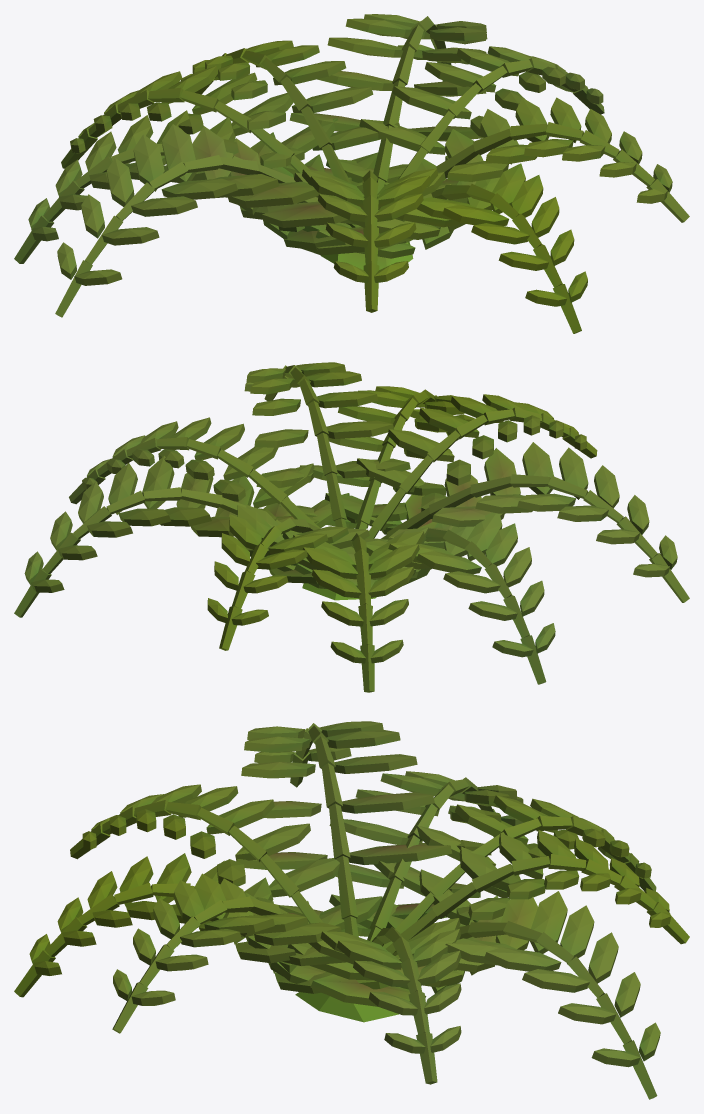
File: Fern_02.glb
3 views of the same model, one above another, from view 1: azimuth 30°, elevation 25°; view 2: azimuth 150°, elevation 25°; view 3: azimuth 270°, elevation 25° (orthographic). The views are drawn at different scales.
Visible parts, largest first — view 1: Fern_02; view 2: Fern_02; view 3: Fern_02.
Boxes of the visible parts, bbox=[...] form: Fern_02: bbox=[14, 14, 689, 333]; Fern_02: bbox=[14, 362, 689, 692]; Fern_02: bbox=[14, 721, 689, 1099].
Size of the model in its own units: 1.96 by 0.4742 by 1.79.
